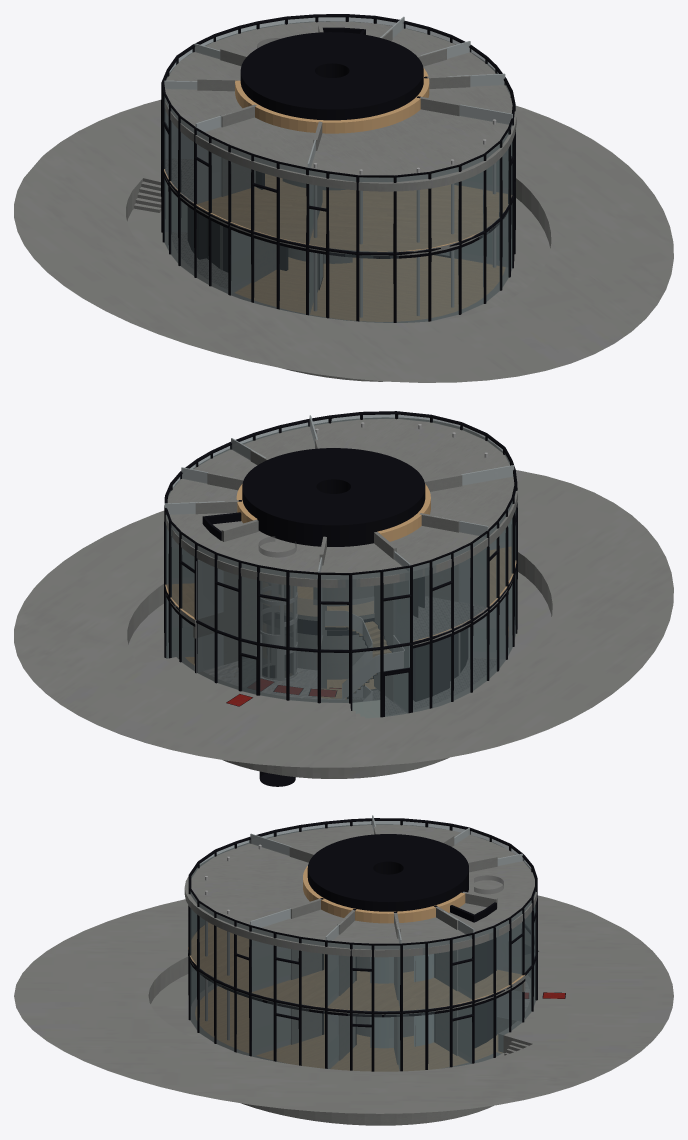
Rendered from OLA-Raimonds-K-14.glb.
3 renders of one model, top to bottom at view 1: azimuth 30°, elevation 25°; view 2: azimuth 150°, elevation 25°; view 3: azimuth 270°, elevation 25°, orthographic. The views are drawn at different scales.
Visible parts, largest first — view 1: Cylinder.078, glassExterior.007, 1stFloor-ceiling.012, 1stFloor-ceiling.011, wireframe.003, Cylinder.032, -1floor-ceiling.001, Cylinder.080, glasswall.010, Cylinder.016, glasswall.002, Cube.007 (+9 smaller); view 2: Cylinder.078, glassExterior.007, 1stFloor-ceiling.012, Cylinder.032, wireframe.003, 1stFloor-ceiling.011, Cube.026, Cylinder.017, Cube.109, glasswall.013, Cylinder.007, glasswall.002 (+21 smaller); view 3: Cylinder.078, glassExterior.007, 1stFloor-ceiling.012, wireframe.003, Cylinder.032, 1stFloor-ceiling.011, -1floor-ceiling.001, glasswall.010, Cylinder.017, Cylinder.080, Cube.005, Cube.107 (+11 smaller).
Part boxes in pixels (bbox=[...]): Cylinder.078: bbox=[14, 99, 673, 382]; glassExterior.007: bbox=[164, 17, 512, 322]; 1stFloor-ceiling.012: bbox=[165, 21, 516, 191]; 1stFloor-ceiling.011: bbox=[164, 169, 512, 258]; wireframe.003: bbox=[161, 14, 515, 322]; Cylinder.032: bbox=[240, 32, 423, 120]; -1floor-ceiling.001: bbox=[235, 255, 505, 321]; Cylinder.080: bbox=[235, 68, 429, 133]; glasswall.010: bbox=[459, 104, 512, 267]; Cylinder.016: bbox=[313, 119, 496, 317]; glasswall.002: bbox=[164, 80, 197, 232]; Cube.007: bbox=[220, 104, 256, 269]; Cylinder.078: bbox=[14, 470, 673, 767]; glassExterior.007: bbox=[166, 414, 515, 718]; 1stFloor-ceiling.012: bbox=[165, 417, 517, 587]; Cylinder.032: bbox=[242, 448, 425, 546]; wireframe.003: bbox=[164, 411, 517, 717]; 1stFloor-ceiling.011: bbox=[165, 546, 516, 648]; Cube.026: bbox=[193, 519, 258, 664]; Cylinder.017: bbox=[209, 675, 449, 786]; Cube.109: bbox=[413, 628, 467, 701]; glasswall.013: bbox=[164, 501, 224, 657]; Cylinder.007: bbox=[297, 633, 366, 679]; glasswall.002: bbox=[394, 551, 410, 712]; Cylinder.078: bbox=[14, 895, 673, 1113]; glassExterior.007: bbox=[190, 821, 535, 1071]; 1stFloor-ceiling.012: bbox=[184, 824, 536, 957]; wireframe.003: bbox=[188, 818, 537, 1071]; Cylinder.032: bbox=[307, 834, 468, 911]; 1stFloor-ceiling.011: bbox=[188, 922, 525, 1017]; -1floor-ceiling.001: bbox=[195, 986, 502, 1071]; glasswall.010: bbox=[250, 908, 290, 1056]; Cylinder.017: bbox=[241, 978, 530, 1125]; Cylinder.080: bbox=[303, 866, 465, 923]; Cube.005: bbox=[290, 898, 323, 1044]; Cube.107: bbox=[434, 905, 459, 1055].
Size of the model in its own units: 33.41 by 14.66 by 39.55.
Materials: 77 (47 with a texture image).
